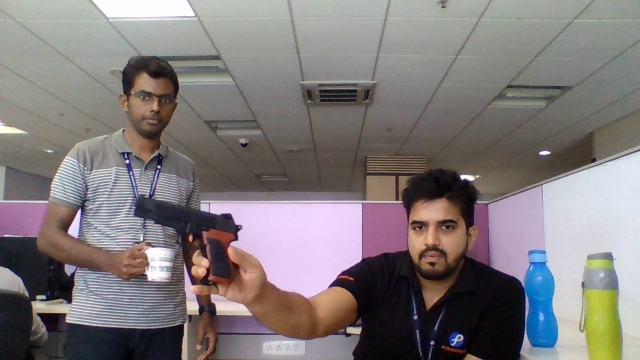gun: (133, 188, 241, 286)
